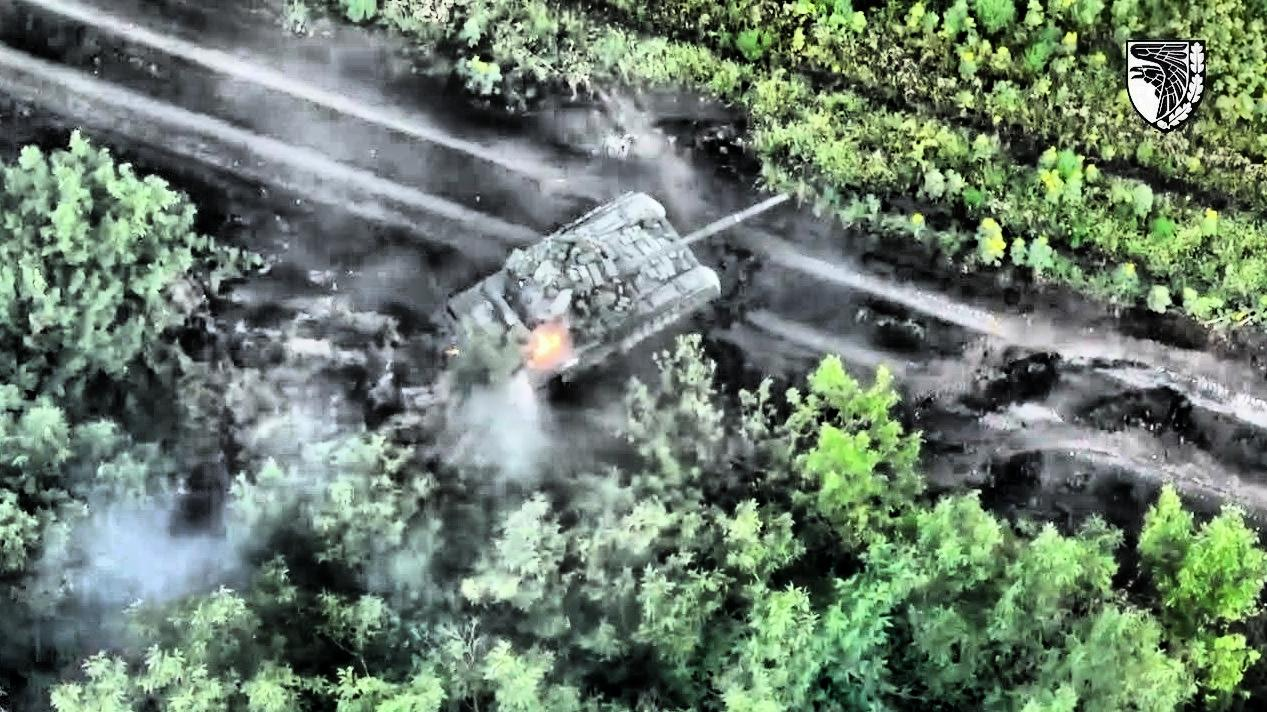military-vehicle: (442, 191, 797, 401)
